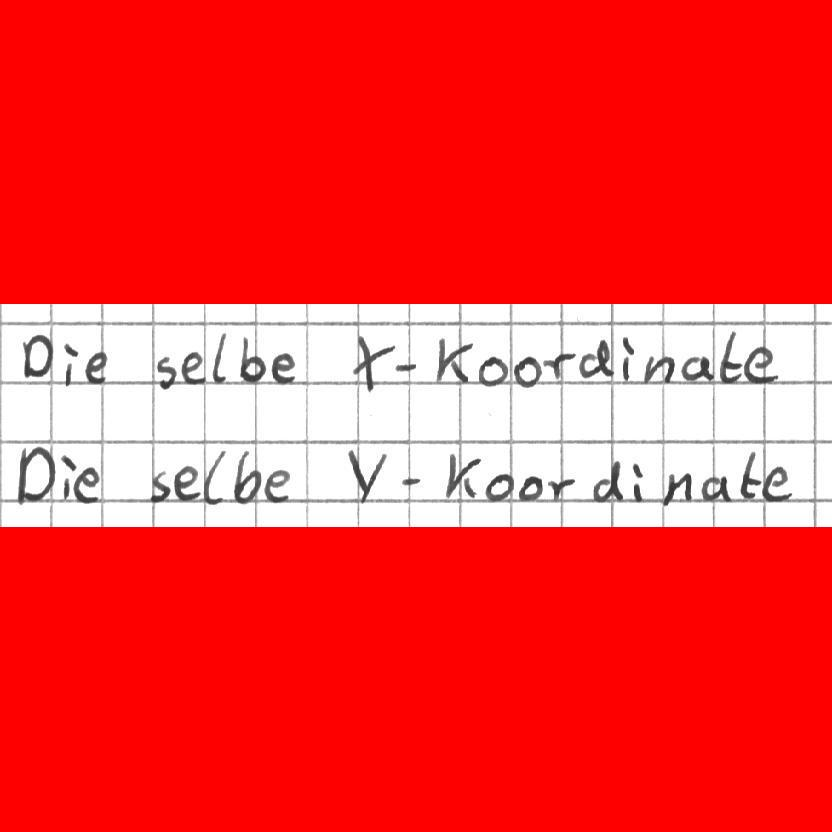Char: (350, 332, 394, 397), (348, 446, 388, 506), (17, 447, 55, 503), (434, 335, 473, 384), (231, 448, 263, 506), (443, 452, 481, 499), (591, 458, 627, 505), (21, 330, 53, 381), (743, 344, 778, 386), (578, 338, 612, 381), (717, 329, 743, 385), (203, 448, 227, 506), (239, 333, 265, 386), (661, 469, 693, 507), (761, 464, 792, 503), (738, 448, 759, 501), (643, 354, 675, 386), (264, 467, 291, 504), (210, 332, 229, 384), (271, 350, 297, 387), (484, 473, 516, 503), (174, 465, 199, 503), (75, 466, 100, 504), (700, 472, 730, 503), (681, 354, 712, 384), (478, 354, 506, 387), (513, 353, 539, 388), (155, 353, 178, 390), (62, 340, 80, 387), (181, 349, 205, 384), (84, 349, 109, 382), (544, 351, 571, 381), (545, 476, 576, 501), (517, 472, 543, 501), (150, 468, 171, 502), (60, 453, 74, 503), (620, 337, 635, 381), (631, 461, 645, 505), (397, 470, 423, 487), (392, 360, 419, 375)
